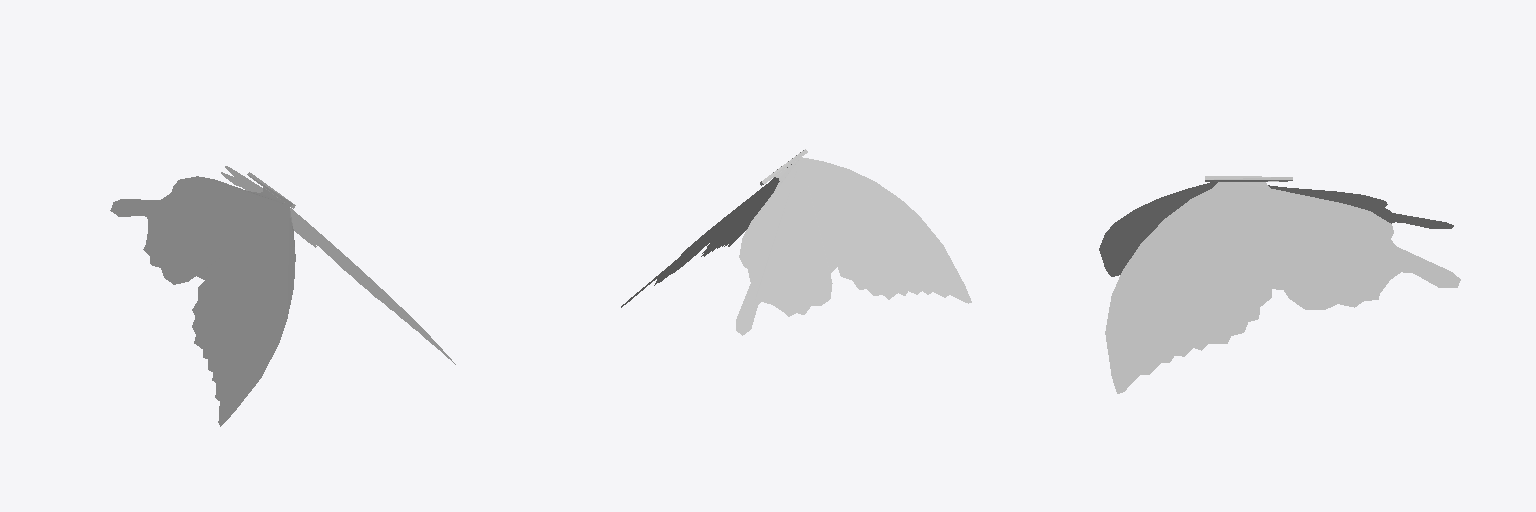
Rendered from mob_18.obj.
The picture shows the model from 3 angles: view 1: azimuth 30°, elevation 25°; view 2: azimuth 150°, elevation 25°; view 3: azimuth 270°, elevation 25°; orthographic projection.
Parts seen in each view (by area): view 1: Cube; view 2: Cube; view 3: Cube.
Boxes of the visible parts, x1=… form: Cube: x1=110, y1=166, x2=455, y2=426; Cube: x1=621, y1=149, x2=971, y2=335; Cube: x1=1099, y1=176, x2=1460, y2=393.
Bounding box in the file's own units: 1.5 × 0.9515 × 1.96.